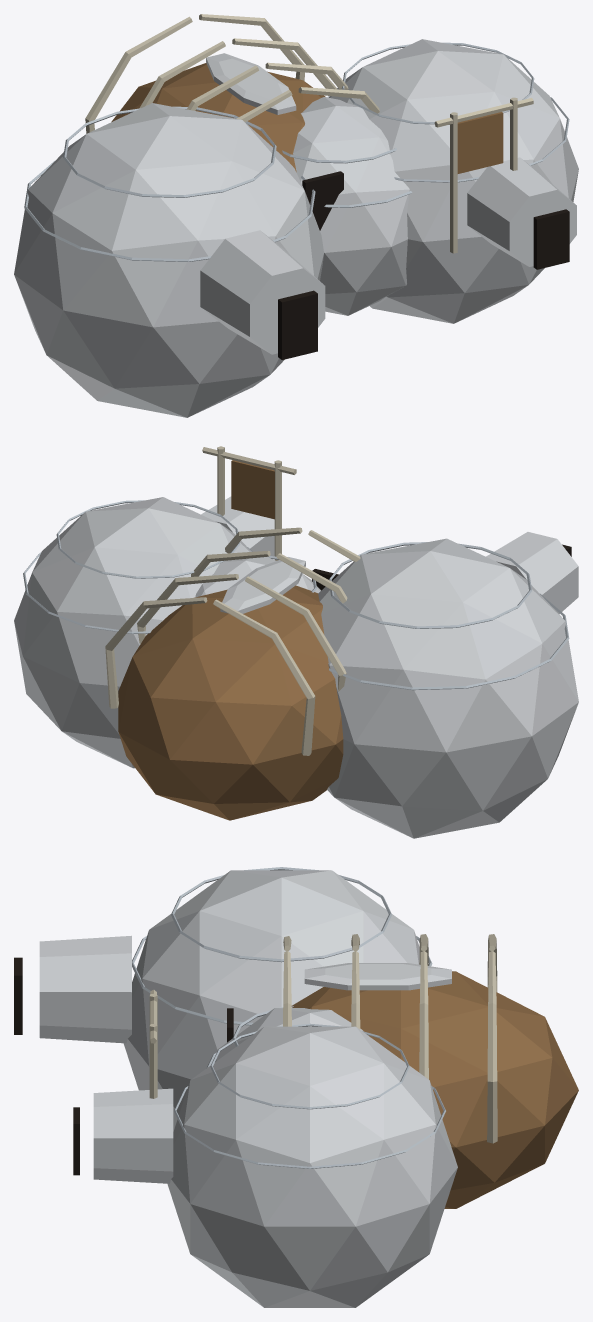
Rendered from owl_compound_broken.glb.
3 renders of one model, top to bottom at view 1: azimuth 30°, elevation 25°; view 2: azimuth 150°, elevation 25°; view 3: azimuth 270°, elevation 25°, orthographic. The views are drawn at different scales.
Visible parts, largest first — view 1: owl_compound_piece3, owl_compound_piece1, owl_compound_piece8, owl_compound_piece0, owl_compound_piece2, owl_compound_piece6, owl_compound_piece10, owl_compound_piece7, owl_compound_piece4; view 2: owl_compound_piece10, owl_compound_piece0, owl_compound_piece4, owl_compound_piece2, owl_compound_piece1, owl_compound_piece3, owl_compound_piece8, owl_compound_piece5, owl_compound_piece7; view 3: owl_compound_piece2, owl_compound_piece1, owl_compound_piece4, owl_compound_piece3, owl_compound_piece6, owl_compound_piece10, owl_compound_piece8.
Part boxes in pixels (<box>): owl_compound_piece3: <box>268,56,576,311</box>; owl_compound_piece1: <box>158,14,317,353</box>; owl_compound_piece8: <box>66,104,264,366</box>; owl_compound_piece0: <box>14,135,174,399</box>; owl_compound_piece2: <box>270,39,578,323</box>; owl_compound_piece6: <box>139,179,325,417</box>; owl_compound_piece10: <box>34,20,212,179</box>; owl_compound_piece7: <box>95,335,293,408</box>; owl_compound_piece4: <box>250,17,346,97</box>; owl_compound_piece10: <box>164,590,464,811</box>; owl_compound_piece0: <box>374,603,578,832</box>; owl_compound_piece4: <box>19,600,218,804</box>; owl_compound_piece2: <box>14,500,227,671</box>; owl_compound_piece1: <box>154,527,578,637</box>; owl_compound_piece3: <box>135,446,338,596</box>; owl_compound_piece8: <box>346,556,574,659</box>; owl_compound_piece5: <box>184,784,406,835</box>; owl_compound_piece7: <box>337,791,501,838</box>; owl_compound_piece2: <box>173,982,430,1307</box>; owl_compound_piece1: <box>14,875,496,1016</box>; owl_compound_piece4: <box>331,993,578,1307</box>; owl_compound_piece3: <box>73,960,392,1200</box>; owl_compound_piece6: <box>14,981,212,1090</box>; owl_compound_piece10: <box>333,871,573,1078</box>; owl_compound_piece8: <box>132,867,356,986</box>.
Bounding box in the file's own units: 2.44 × 1.27 × 2.18.
